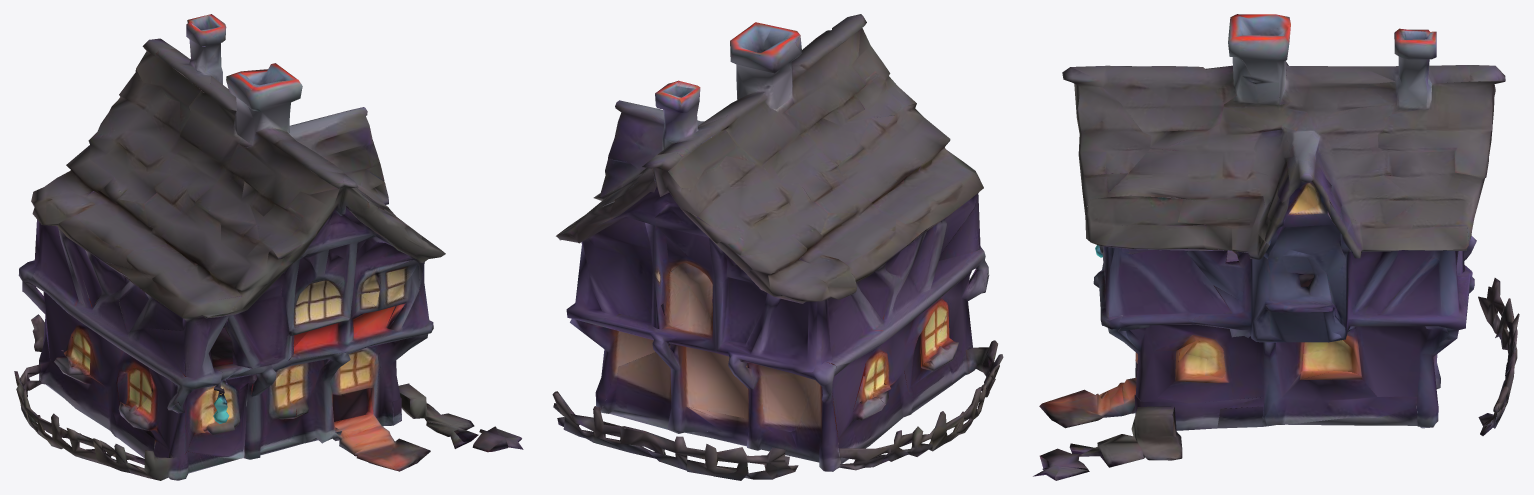
Rendered from building_fachwerk.glb.
The picture shows the model from 3 angles, left to right: view 1: azimuth 30°, elevation 25°; view 2: azimuth 150°, elevation 25°; view 3: azimuth 270°, elevation 25°; orthographic projection. The views are drawn at different scales.
Parts seen in each view (by area): view 1: Mesh_0; view 2: Mesh_0; view 3: Mesh_0.
Part boxes in pixels (x1=…): Mesh_0: x1=14, y1=14, x2=523, y2=480; Mesh_0: x1=552, y1=14, x2=1003, y2=480; Mesh_0: x1=1033, y1=14, x2=1519, y2=480.
Bounding box in the file's own units: 8.09 × 7 × 8.32.
1 material, 1 textured.
